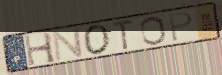H: (22, 31, 58, 68)
N: (51, 26, 85, 63)
O: (82, 23, 112, 56), (139, 15, 168, 46)
P: (167, 10, 194, 43)
T: (111, 18, 136, 53)
